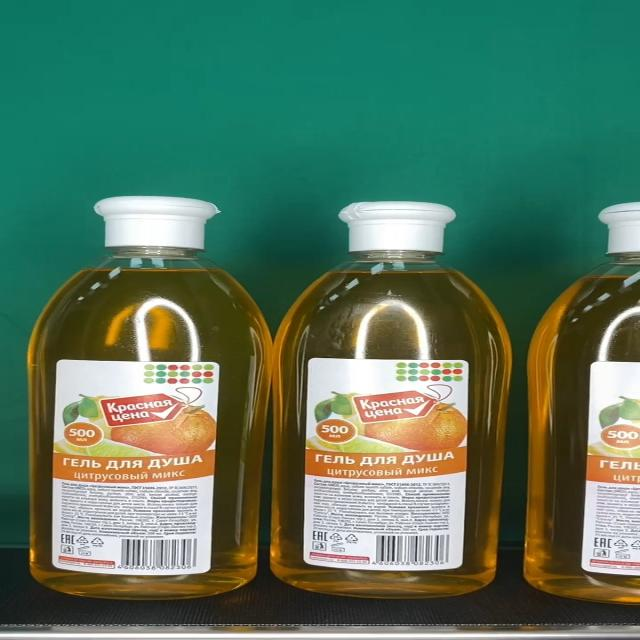Bottle: (28, 197, 271, 600), (270, 202, 516, 599)
Cap: (94, 197, 219, 247), (339, 202, 458, 253)
